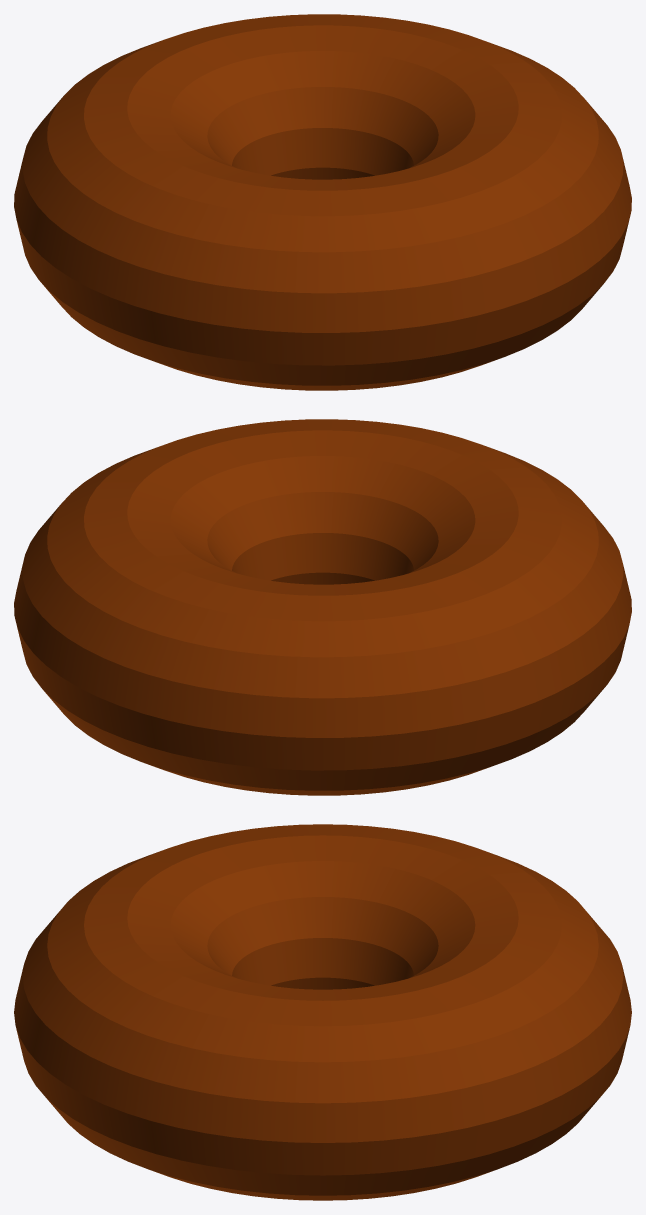
3 views of the same model, one above another, from view 1: azimuth 30°, elevation 25°; view 2: azimuth 150°, elevation 25°; view 3: azimuth 270°, elevation 25° (orthographic).
Parts seen in each view (by area): view 1: ring; view 2: ring; view 3: ring.
Part boxes in pixels (x1,y1,x2,y2): ring: (14,14,631,390); ring: (14,419,631,795); ring: (14,824,631,1200).
Size of the model in its own units: 0.18 by 0.0607 by 0.18.
